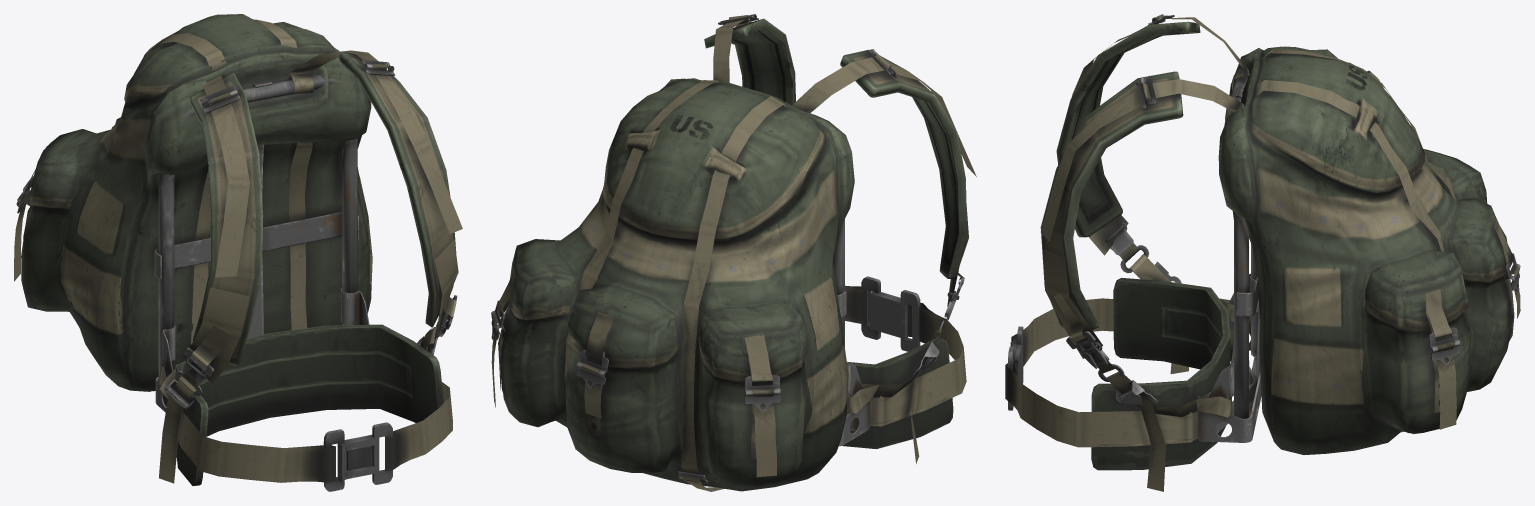
The model's file is backpack.gltf.
3 renders of one model, left to right at view 1: azimuth 30°, elevation 25°; view 2: azimuth 150°, elevation 25°; view 3: azimuth 270°, elevation 25°, orthographic.
Visible parts, largest first — view 1: model_lc-2_frame, model_alice_backpack; view 2: model_alice_backpack, model_lc-2_frame; view 3: model_alice_backpack, model_lc-2_frame.
Part boxes in pixels (<box>): model_lc-2_frame: <box>154,50,462,491</box>; model_alice_backpack: <box>14,14,372,391</box>; model_alice_backpack: <box>491,78,854,491</box>; model_lc-2_frame: <box>704,14,976,463</box>; model_alice_backpack: <box>1218,46,1520,454</box>; model_lc-2_frame: <box>1005,14,1261,491</box>.
Size of the model in its own units: 0.4659 by 0.5483 by 0.6646.
Materials: 1 (1 with a texture image).
